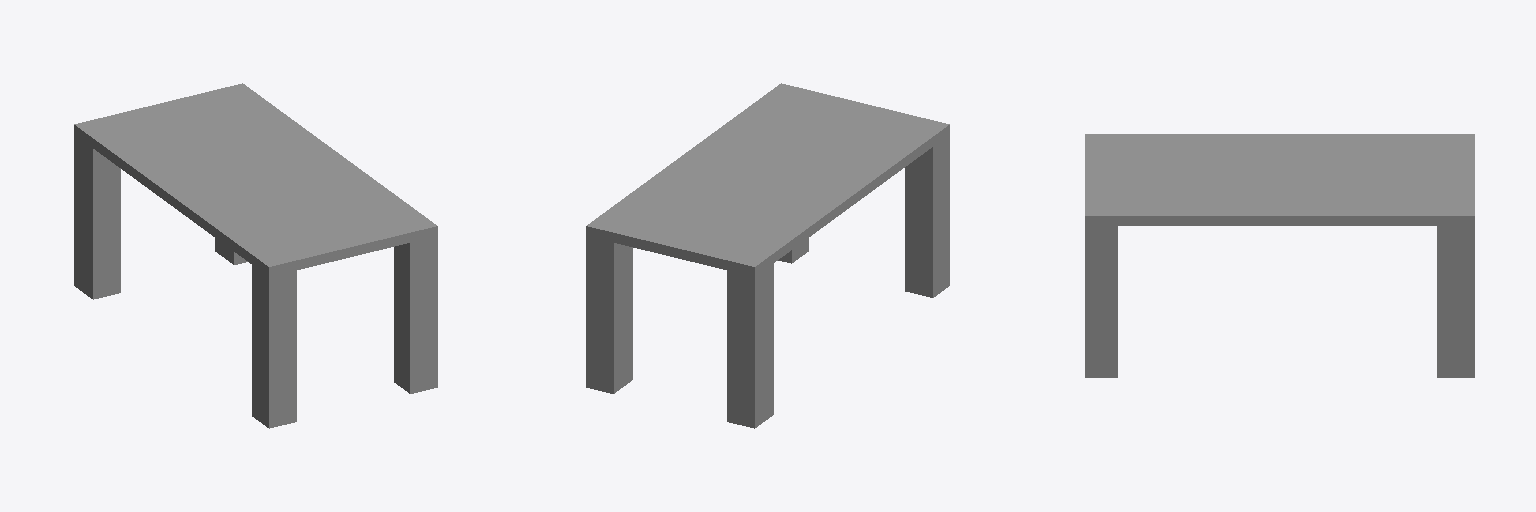
The model's file is table.obj.
3 renders of one model, left to right at view 1: azimuth 30°, elevation 25°; view 2: azimuth 150°, elevation 25°; view 3: azimuth 270°, elevation 25°, orthographic.
Visible parts, largest first — view 1: Cube_Cube.002; view 2: Cube_Cube.002; view 3: Cube_Cube.002.
Boxes of the visible parts, <box> form: Cube_Cube.002: <box>74,83,437,428</box>; Cube_Cube.002: <box>586,83,949,428</box>; Cube_Cube.002: <box>1085,134,1474,377</box>.
Bounding box in the file's own units: 3.96 × 3.62 × 7.92.